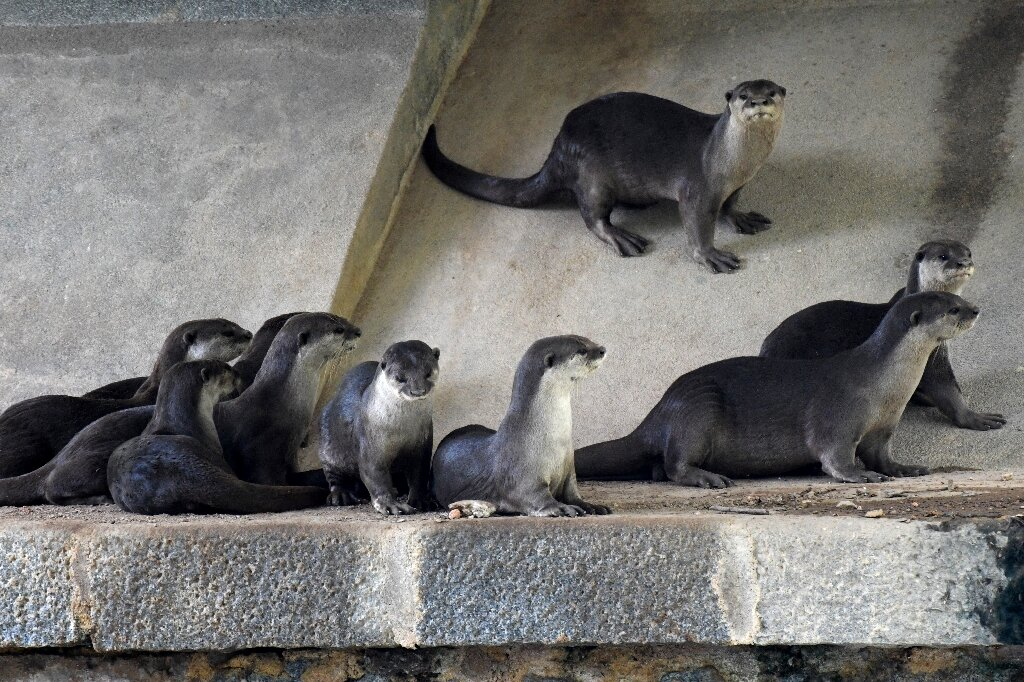otter: (563, 283, 992, 490), (407, 68, 796, 280), (428, 323, 621, 524)
